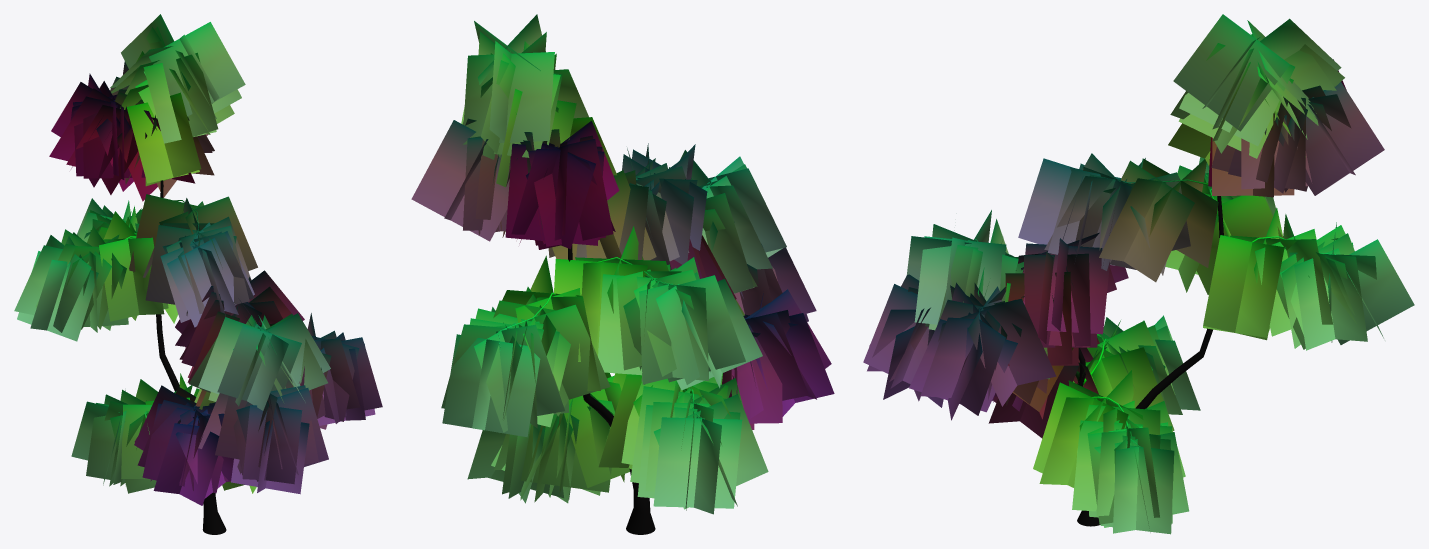
File: URP_P13_Tree_7_LOD_0.fbx
3 views of the same model, side by side, from view 1: azimuth 30°, elevation 25°; view 2: azimuth 150°, elevation 25°; view 3: azimuth 270°, elevation 25° (orthographic). The views are drawn at different scales.
Parts seen in each view (by area): view 1: Tree_7_LOD_0; view 2: Tree_7_LOD_0; view 3: Tree_7_LOD_0.
Part boxes in pixels (left/top/right/bottom): Tree_7_LOD_0: left=14, top=14, right=382, bottom=534; Tree_7_LOD_0: left=411, top=14, right=834, bottom=534; Tree_7_LOD_0: left=863, top=14, right=1414, bottom=534.
Bounding box in the file's own units: 418 × 700 × 671.
